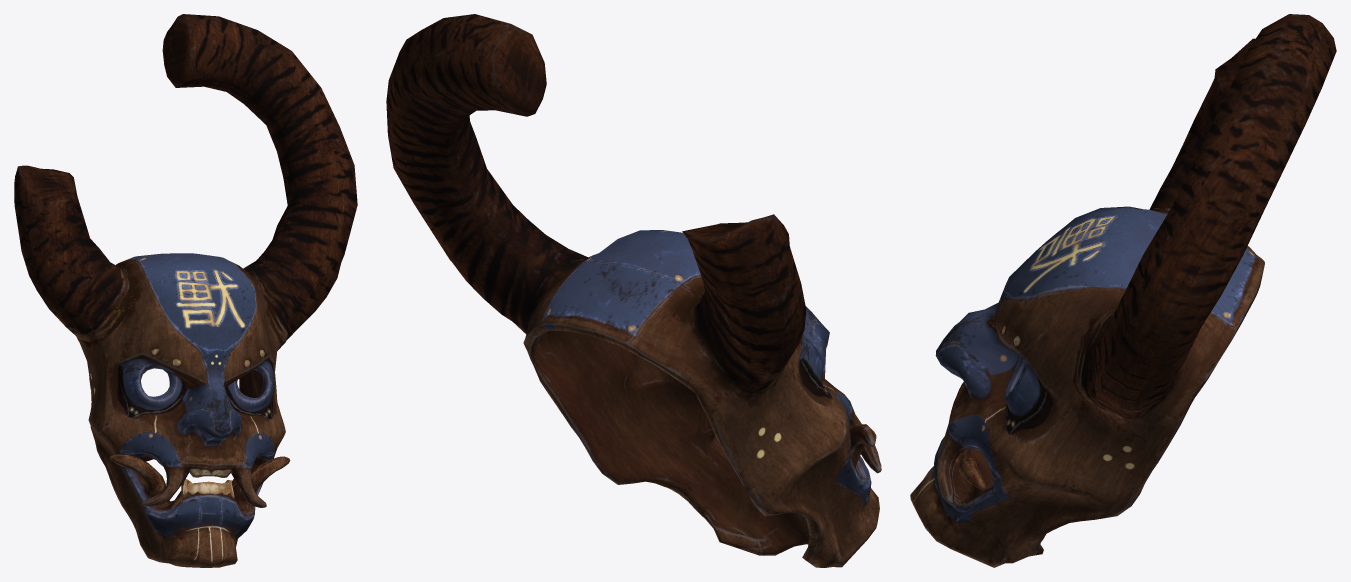
Rendered from OniMaskModel.fbx.
3 views of the same model, side by side, from view 1: azimuth 30°, elevation 25°; view 2: azimuth 150°, elevation 25°; view 3: azimuth 270°, elevation 25° (orthographic). The views are drawn at different scales.
Visible parts, largest first — view 1: retoppedOniMask_beast; view 2: retoppedOniMask_beast; view 3: retoppedOniMask_beast.
Boxes of the visible parts, left/top/right/bottom form: retoppedOniMask_beast: left=14, top=14, right=357, bottom=567; retoppedOniMask_beast: left=386, top=14, right=881, bottom=567; retoppedOniMask_beast: left=910, top=14, right=1336, bottom=567.
Size of the model in its own units: 5.58 by 7.7 by 4.95.
1 material, 1 textured.
